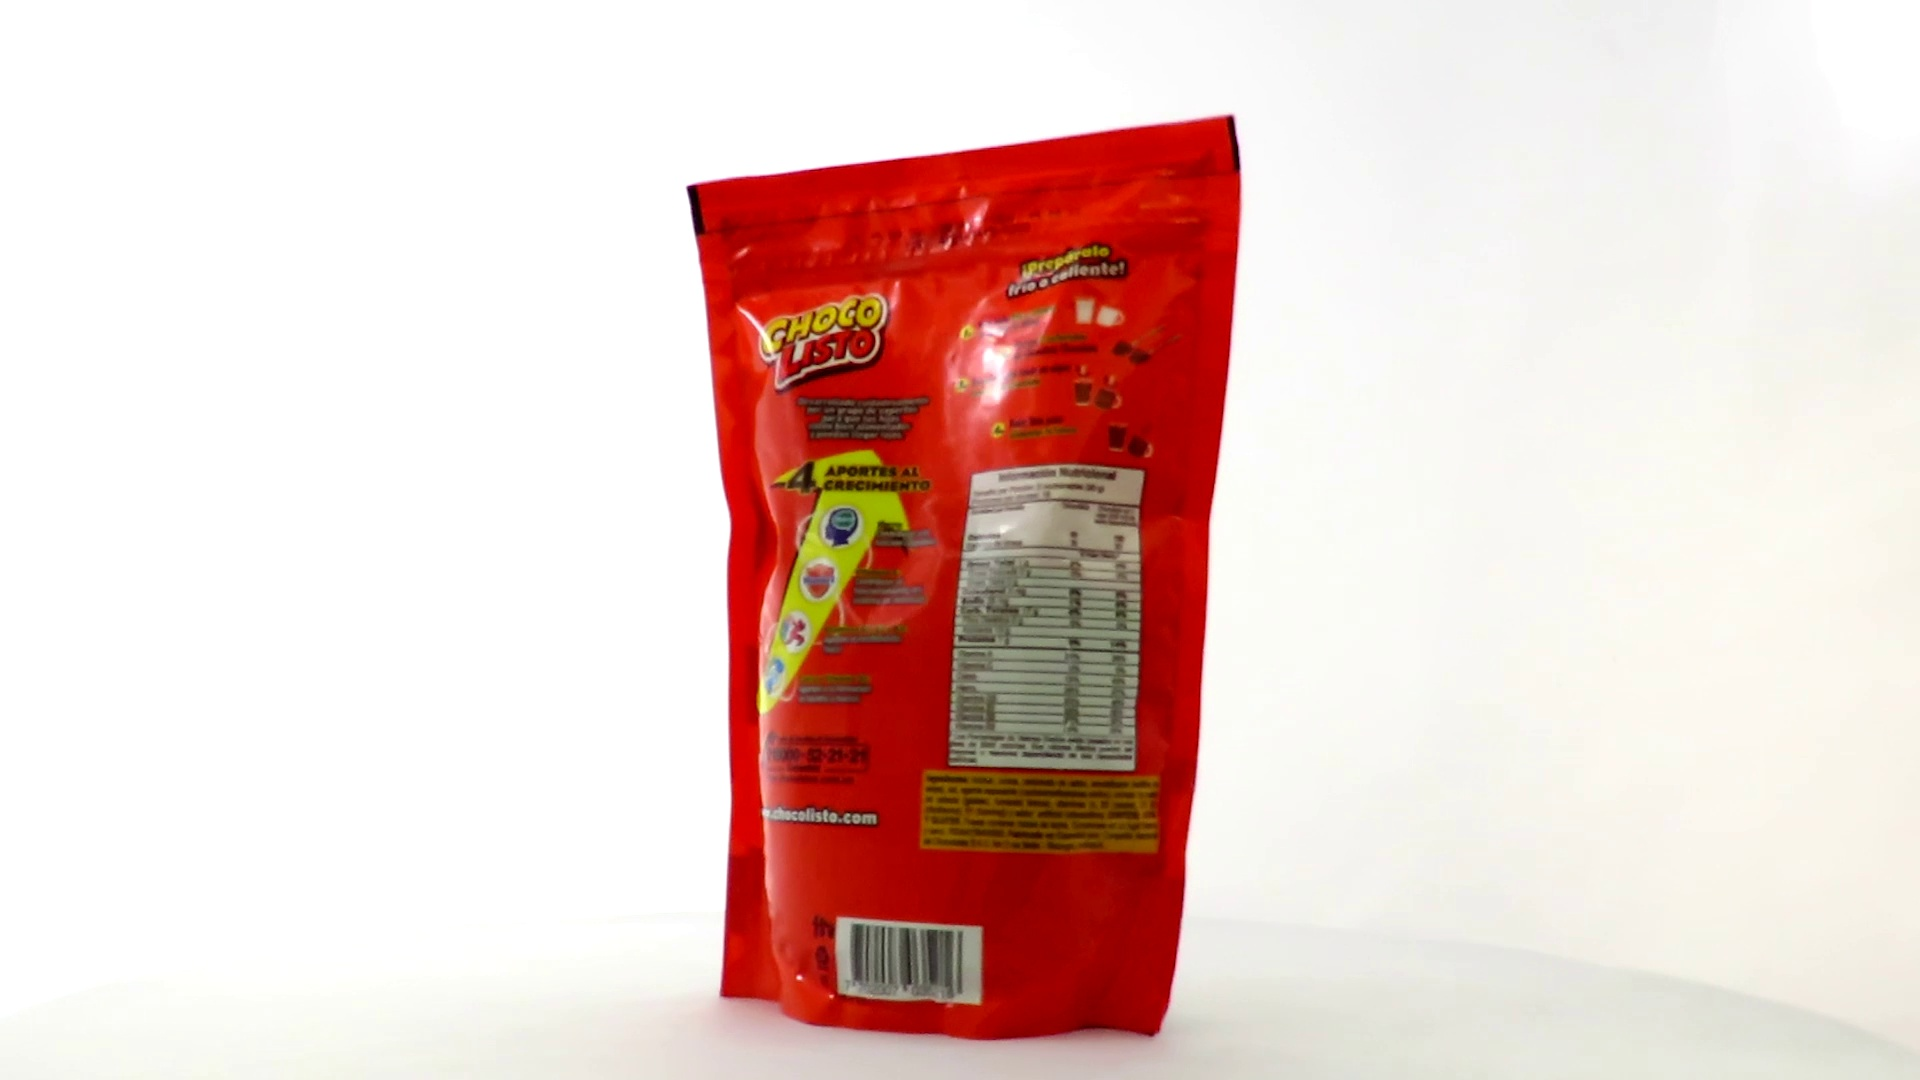COL0170103DYP36000: (680, 109, 1247, 1047)
